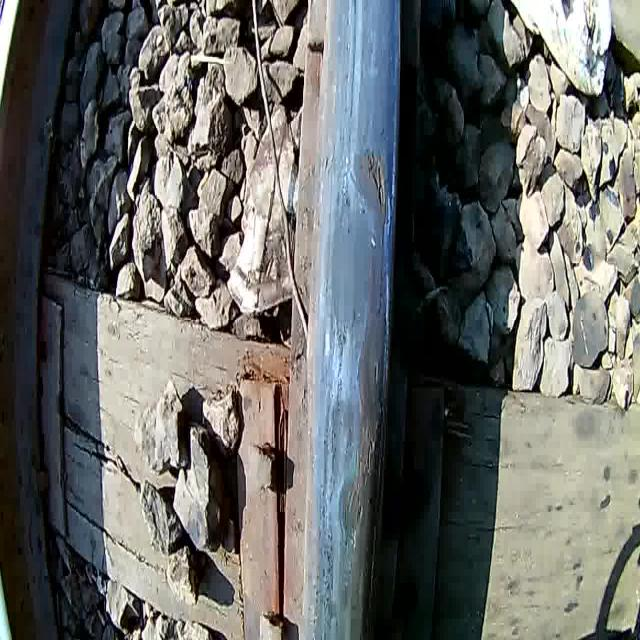Squats: (282, 0, 421, 640)
